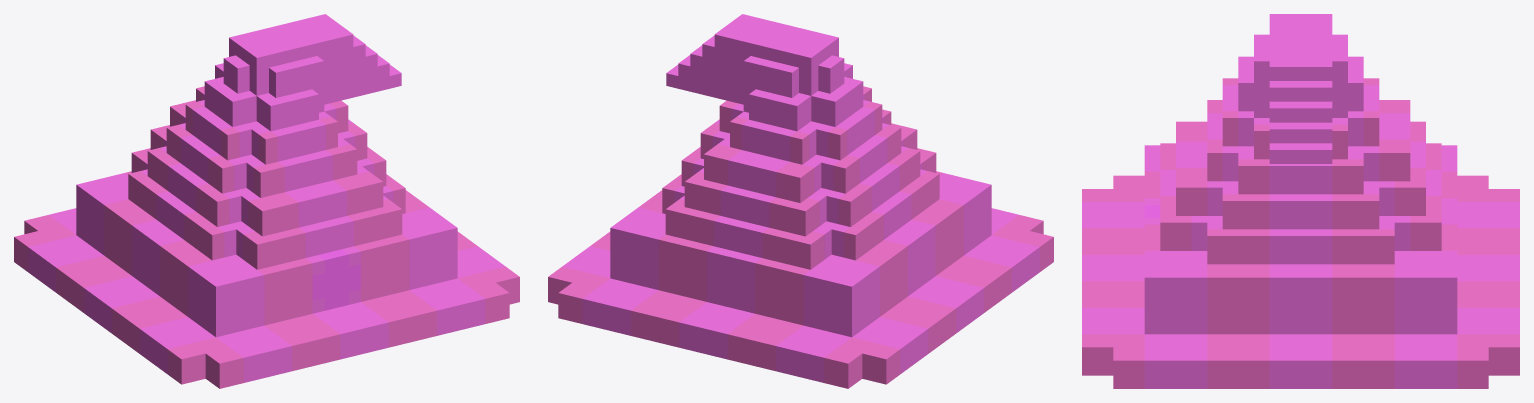
3 views of the same model, side by side, from view 1: azimuth 30°, elevation 25°; view 2: azimuth 150°, elevation 25°; view 3: azimuth 270°, elevation 25° (orthographic). The views are drawn at different scales.
Visible parts, largest first — view 1: 62; view 2: 62; view 3: 62.
Boxes of the visible parts, box(x1,y1,x2,y2) form: 62: box(14, 14, 519, 388); 62: box(548, 14, 1053, 388); 62: box(1082, 14, 1519, 388).
Bounding box in the file's own units: 2.8 × 1.9 × 2.8.
1 material, 1 textured.
